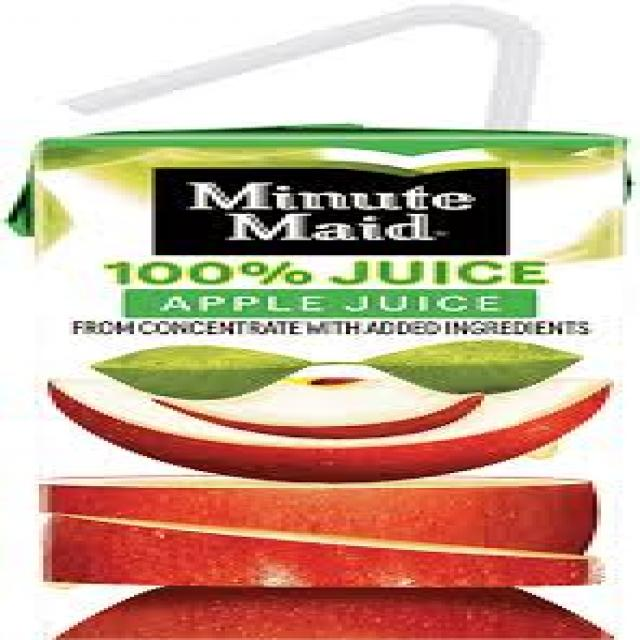non_white_jug: (8, 99, 640, 639)
